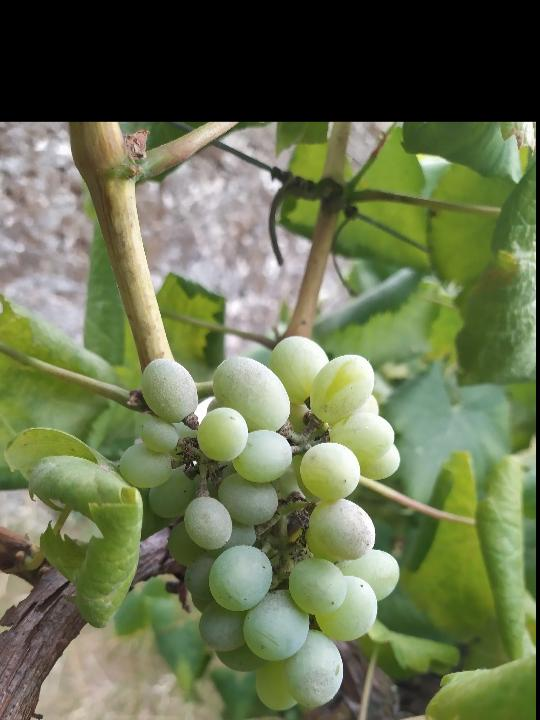grape: (115, 333, 404, 715)
